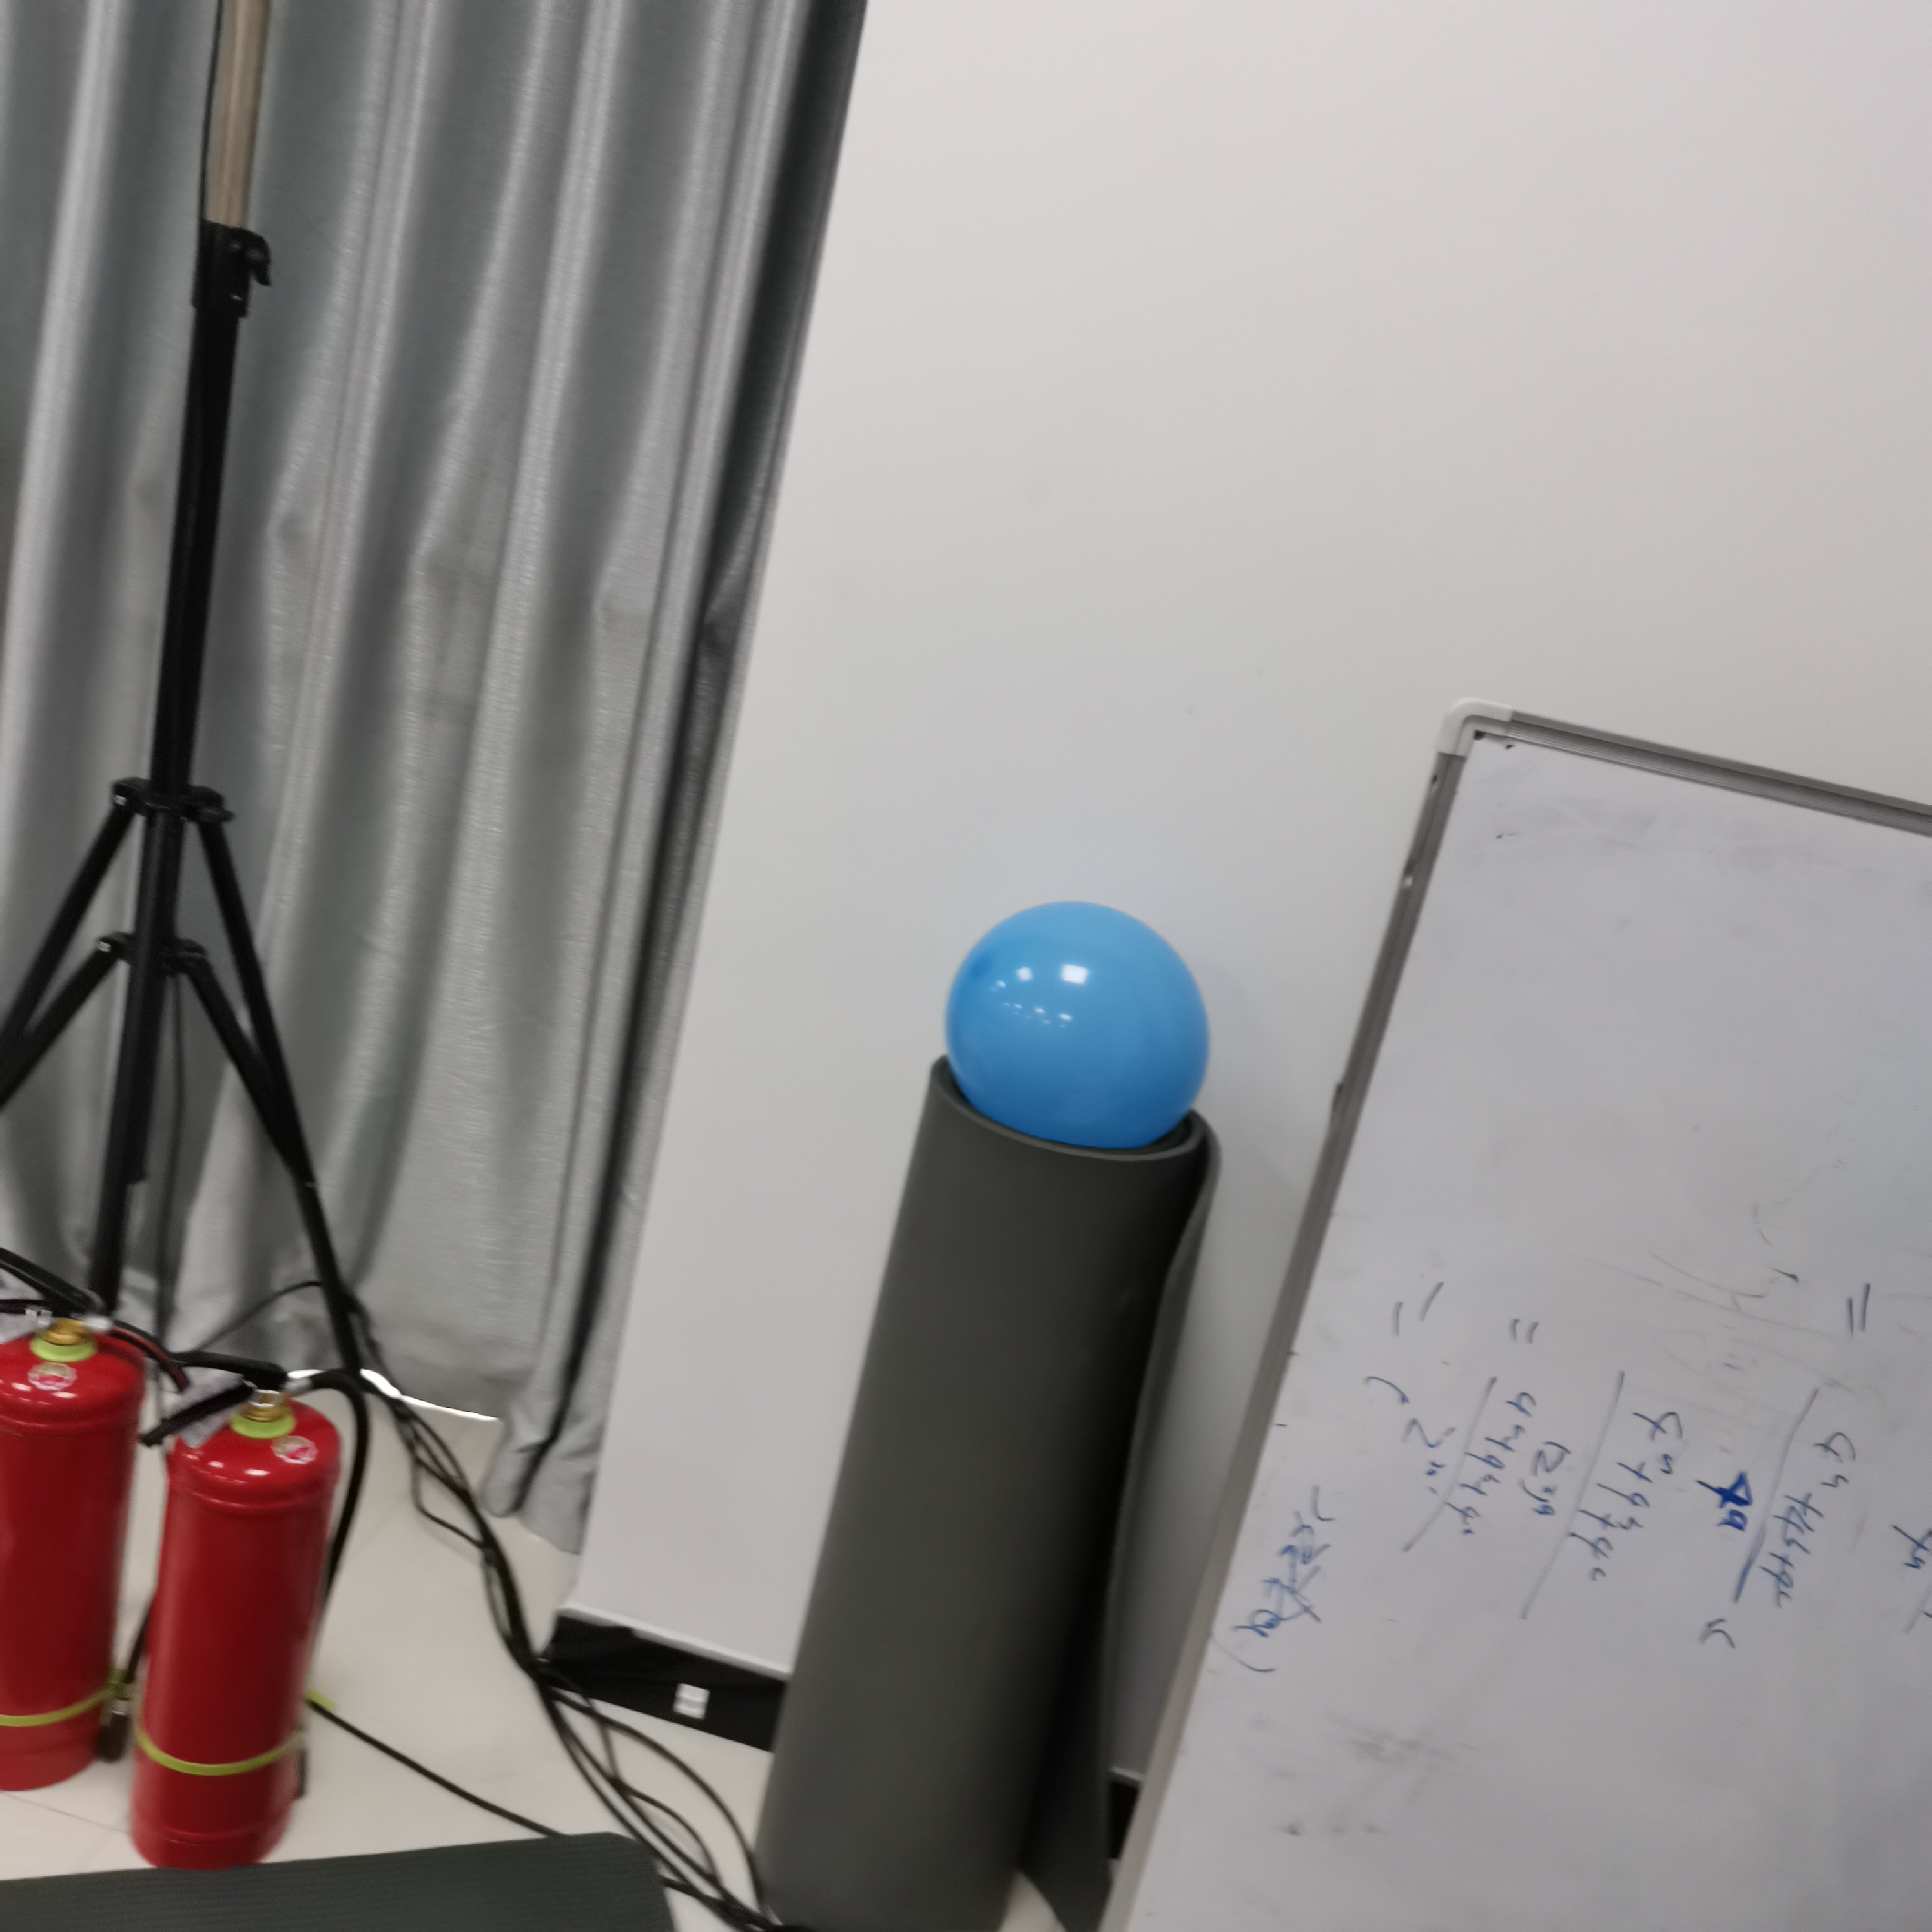balloon: (945, 902, 1210, 1148)
